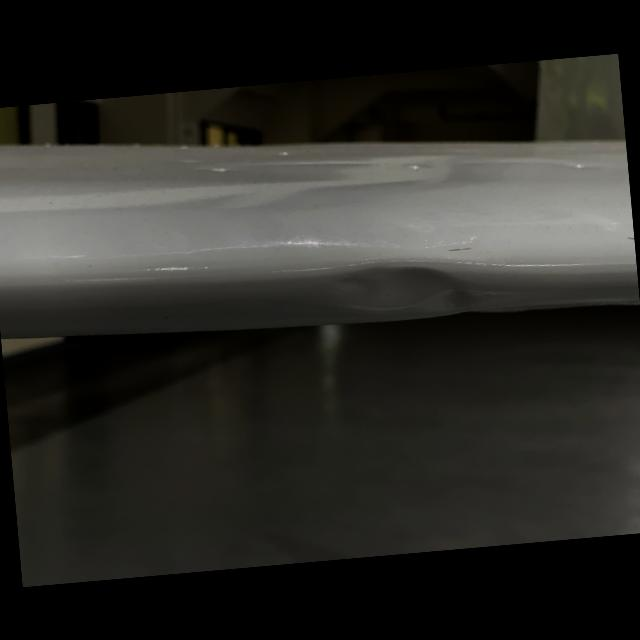dent: (310, 250, 483, 324)
